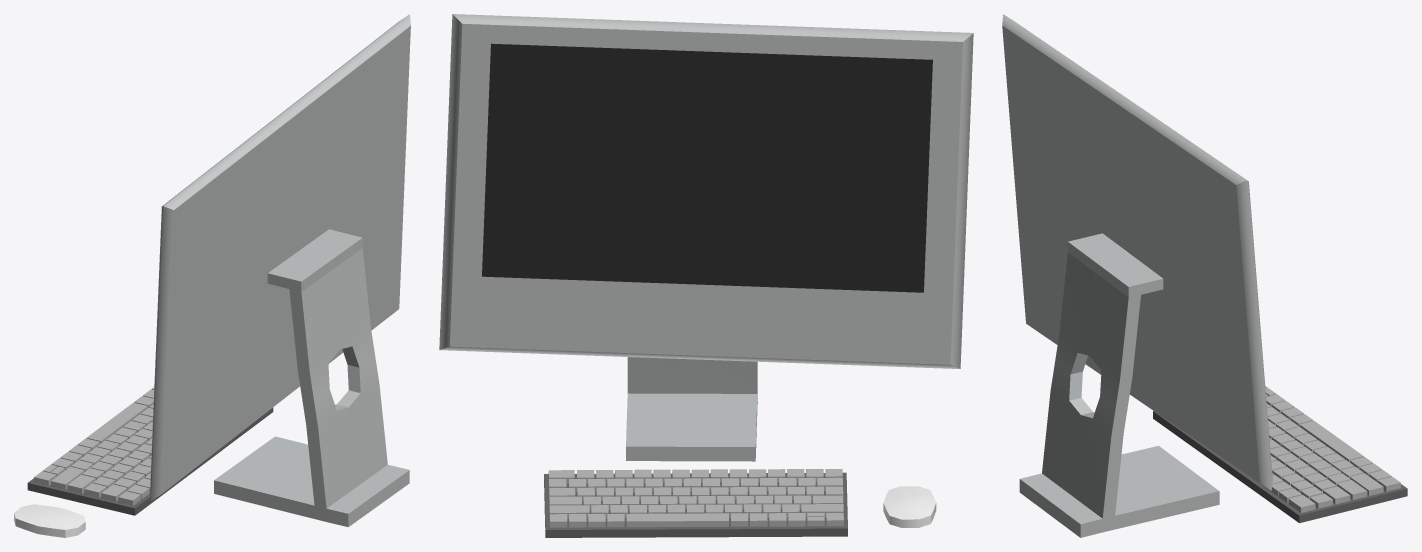
File: ComputerSet.fbx
3 views of the same model, side by side, from view 1: azimuth 30°, elevation 25°; view 2: azimuth 150°, elevation 25°; view 3: azimuth 270°, elevation 25° (orthographic). The views are drawn at different scales.
Parts seen in each view (by area): view 1: pCube66, pCube65, mouse, pCube67, pCube153; view 2: pCube66, pCube65, pCube67, mouse, pCube153; view 3: pCube66, pCube65, pCube67, pCube153.
Boxes of the visible parts, x1=… form: pCube66: x1=150, y1=14, x2=410, y2=501; pCube65: x1=214, y1=229, x2=409, y2=527; mouse: x1=14, y1=504, x2=85, y2=537; pCube67: x1=27, y1=407, x2=273, y2=515; pCube153: x1=86, y1=402, x2=147, y2=443; pCube66: x1=439, y1=14, x2=973, y2=368; pCube65: x1=626, y1=357, x2=757, y2=461; pCube67: x1=544, y1=472, x2=847, y2=537; mouse: x1=883, y1=486, x2=936, y2=527; pCube153: x1=626, y1=513, x2=728, y2=527; pCube66: x1=1002, y1=14, x2=1272, y2=490; pCube65: x1=1019, y1=233, x2=1219, y2=537; pCube67: x1=1153, y1=411, x2=1407, y2=523; pCube153: x1=1299, y1=421, x2=1363, y2=462.
Bounding box in the file's own units: 1.07 × 0.9484 × 0.8724.
